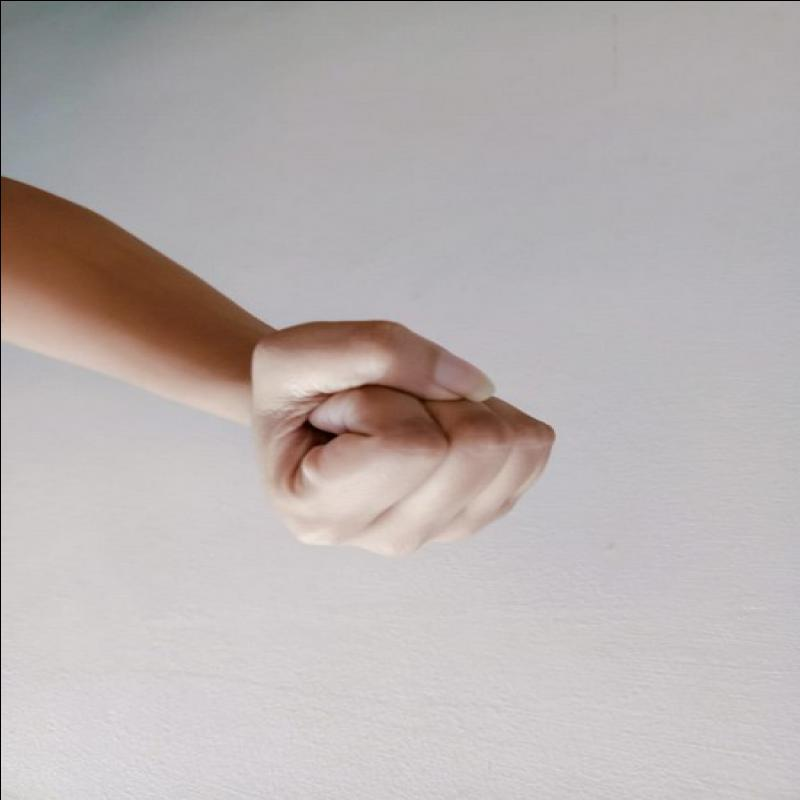Mushti: (226, 303, 567, 574)
